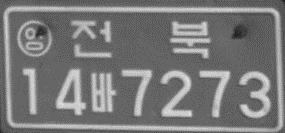1: (15, 67, 46, 115)
2: (159, 69, 193, 118)
3: (238, 70, 271, 119)
4: (54, 69, 86, 116)
7: (120, 68, 152, 117), (198, 69, 230, 118)
바: (89, 71, 116, 113)
영: (16, 19, 52, 57)
전북_D: (69, 18, 210, 60)
